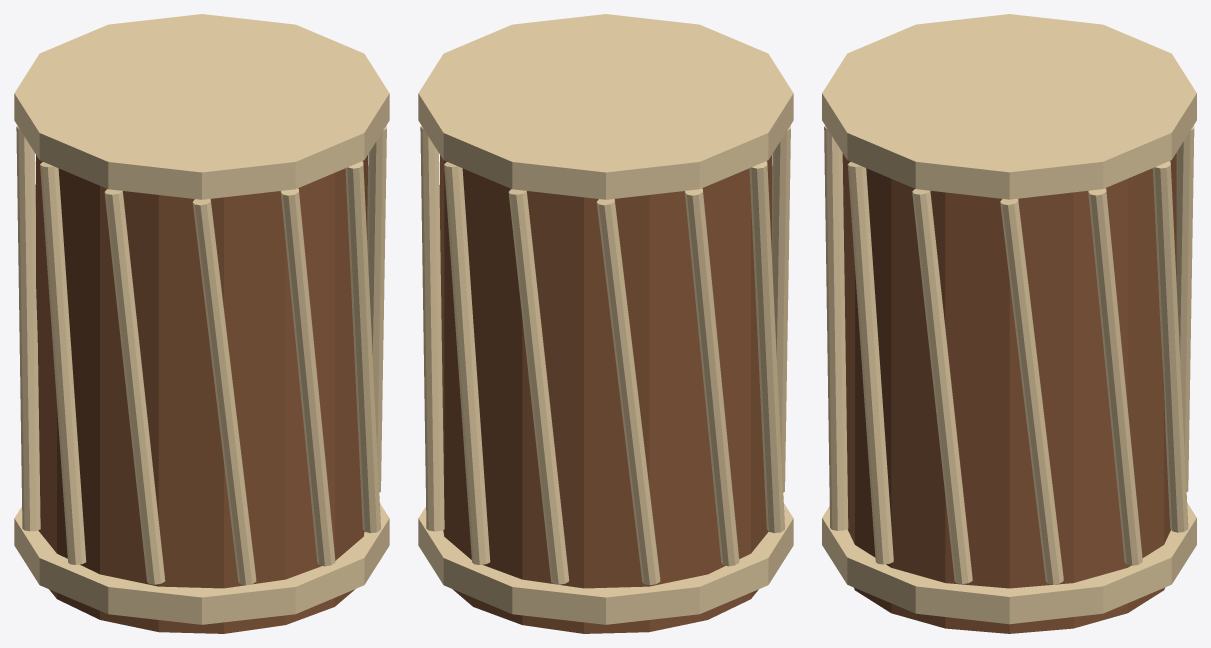
Rendered from 082_chenda_drum.glb.
The picture shows the model from 3 angles, left to right: view 1: azimuth 30°, elevation 25°; view 2: azimuth 150°, elevation 25°; view 3: azimuth 270°, elevation 25°; orthographic projection.
Parts seen in each view (by area): view 1: Chenda drum; view 2: Chenda drum; view 3: Chenda drum.
Part boxes in pixels (x1,y1,x2,y2): Chenda drum: [14, 14, 389, 633]; Chenda drum: [418, 14, 793, 633]; Chenda drum: [822, 14, 1196, 633].
Bounding box in the file's own units: 0.56 × 0.775 × 0.56.
